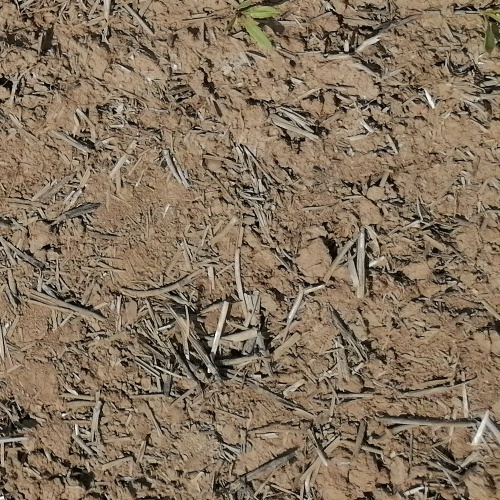beet: (222, 0, 280, 54), (479, 0, 500, 54)
